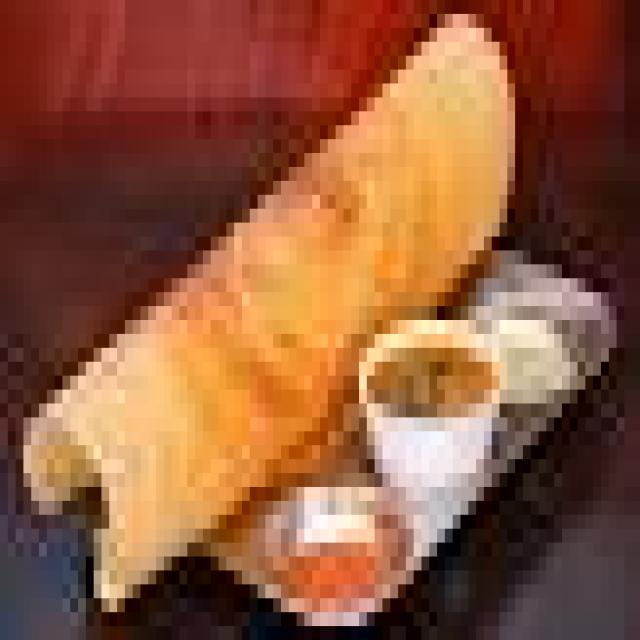SAMOSA: (8, 0, 515, 598)
